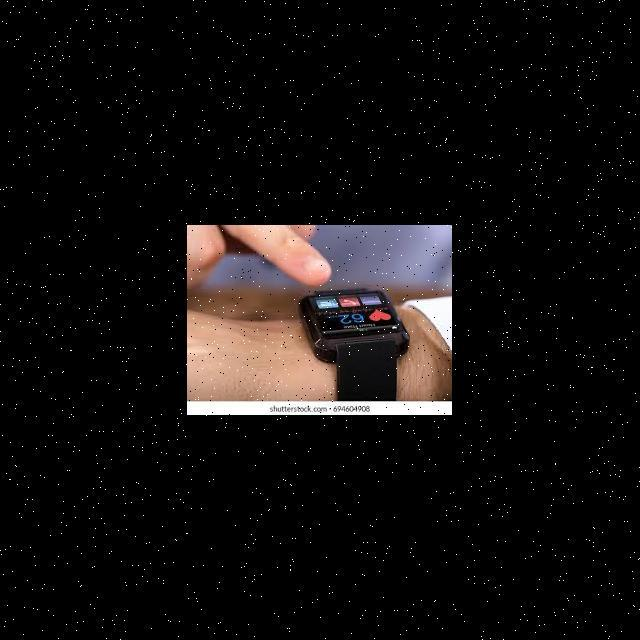watch: (262, 272, 412, 413)
